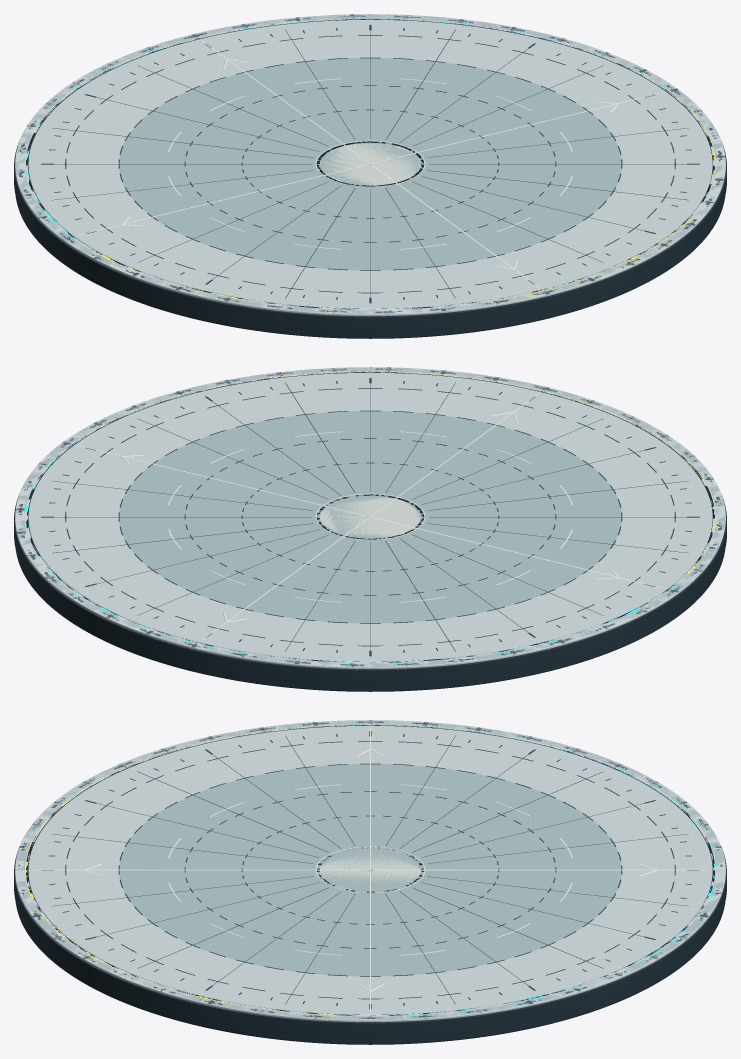
File: SM_TestArena_Static.glb
The picture shows the model from 3 angles, top to bottom: view 1: azimuth 30°, elevation 25°; view 2: azimuth 150°, elevation 25°; view 3: azimuth 270°, elevation 25°; orthographic projection.
Parts seen in each view (by area): view 1: SM_TestArena_Static; view 2: SM_TestArena_Static; view 3: SM_TestArena_Static.
Part boxes in pixels (x1,y1,x2,y2): SM_TestArena_Static: (14,14,726,338); SM_TestArena_Static: (14,367,726,691); SM_TestArena_Static: (14,720,726,1044).
Bounding box in the file's own units: 13 × 0.507 × 13.
